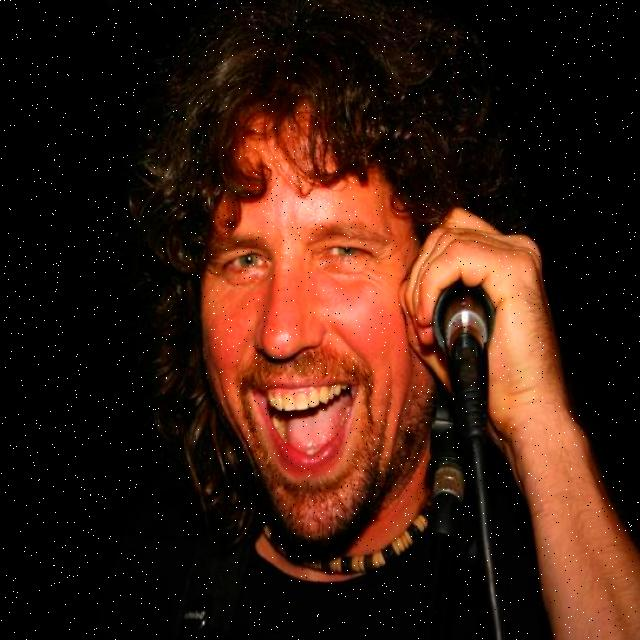puffy_eyes: (317, 260, 372, 285), (223, 267, 267, 293)
